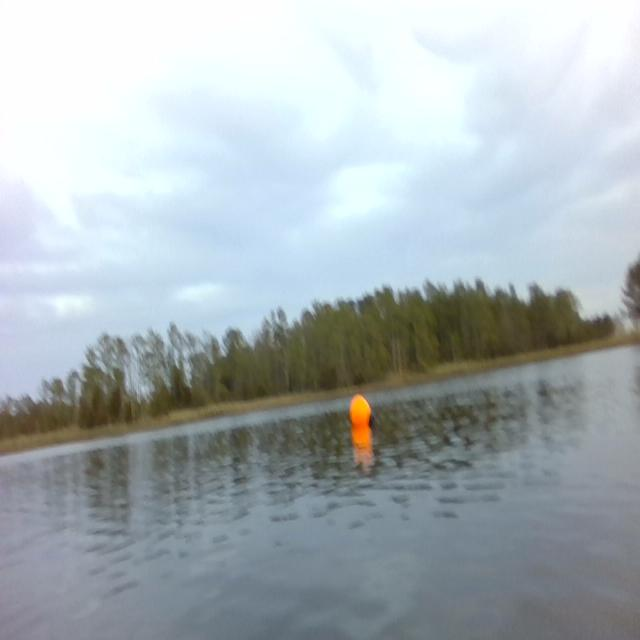Buoy: (348, 392, 378, 431)
